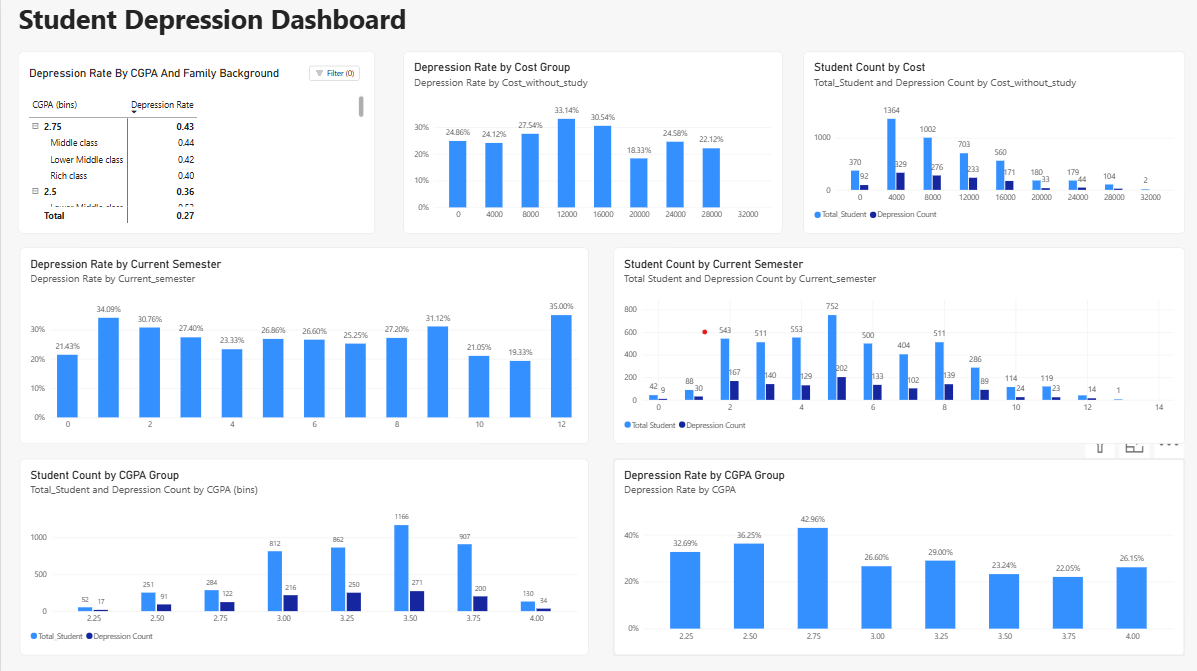

The dashboard page shown, as its layout file describes it:
{"tool":"powerbi","page":{"name":"Academic & Financial Analysis","canvas":[1920,1080],"ordinal":2},"visuals":[{"type":"textbox","box":[28,0,884,60],"z":0},{"type":"clusteredColumnChart","title":"Depression Rate by Cost Group","fields":{"Category":["Student_Cleaned.Cost_without_study (bins)"],"Y":["Student_Cleaned.Depression Rate"]},"box":[644,82,606,292],"z":3000},{"type":"clusteredColumnChart","title":"Depression Rate by CGPA Group","fields":{"Category":["Student_Cleaned.CGPA (bins)"],"Y":["Student_Cleaned.Depression Rate"]},"box":[980,734,914,314],"z":4000},{"type":"clusteredColumnChart","title":"Student Count by CGPA Group","fields":{"Category":["Student_Cleaned.CGPA (bins)"],"Y":["Student_Cleaned.Total_Student","Student_Cleaned.Depression Count"]},"box":[30,734,910,314],"z":5000},{"type":"columnChart","title":"Depression Rate by Current Semester","fields":{"Category":["Student_Cleaned.Current_semester"],"Y":["Student_Cleaned.Depression Rate"]},"box":[30,396,910,314],"z":8000},{"type":"pivotTable","title":"Depression Rate By CGPA And Family Background","fields":{"Rows":["Student_Cleaned.CGPA (bins)","Student_Cleaned.Family_background"],"Values":["Student_Cleaned.Depression Rate"]},"box":[28,82,570,292],"z":9000},{"type":"clusteredColumnChart","title":"Student Count by Current Semester","fields":{"Category":["Student_Cleaned.Current_semester"],"Y":["Student_Cleaned.Total_Student","Student_Cleaned.Depression Count"]},"box":[980,396,914,314],"z":9001},{"type":"clusteredColumnChart","title":"Student Count by Cost","fields":{"Category":["Student_Cleaned.Cost_without_study (bins)"],"Y":["Student_Cleaned.Total_Student","Student_Cleaned.Depression Count"]},"box":[1284,82,610,292],"z":9002}]}

Visuals, with their boxes in screenshot pixels (x1, y1, x2, y2), scaled from the page's 1920x1080 canvas onto the 1197x671 screenshot:
textbox: pyautogui.locateOnScreen(17, 0, 569, 37)
"Depression Rate by Cost Group" clusteredColumnChart: pyautogui.locateOnScreen(401, 51, 779, 232)
"Depression Rate by CGPA Group" clusteredColumnChart: pyautogui.locateOnScreen(611, 456, 1181, 651)
"Student Count by CGPA Group" clusteredColumnChart: pyautogui.locateOnScreen(19, 456, 586, 651)
"Depression Rate by Current Semester" columnChart: pyautogui.locateOnScreen(19, 246, 586, 441)
"Depression Rate By CGPA And Family Background" pivotTable: pyautogui.locateOnScreen(17, 51, 373, 232)
"Student Count by Current Semester" clusteredColumnChart: pyautogui.locateOnScreen(611, 246, 1181, 441)
"Student Count by Cost" clusteredColumnChart: pyautogui.locateOnScreen(800, 51, 1181, 232)
